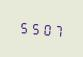five: (29, 18, 39, 36), (18, 18, 28, 35)
seven: (51, 20, 61, 38)
zero: (40, 19, 50, 37)
